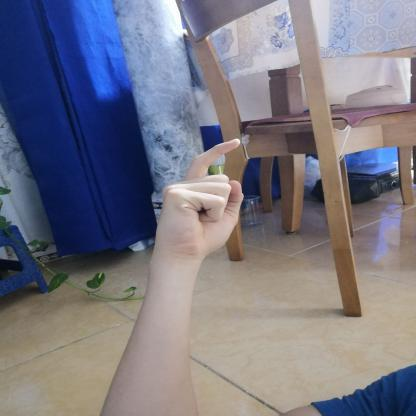RAA: (144, 127, 258, 265)
